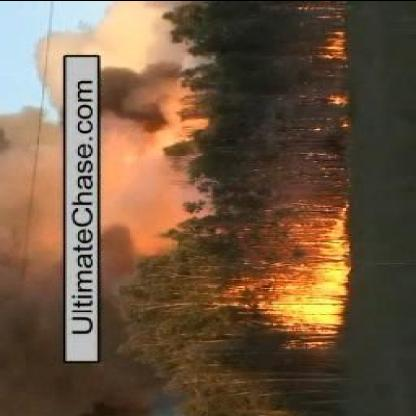-: (0, 96, 60, 351), (102, 9, 162, 254)
foggia-v2-map80-epoch100 - v1 4323: (282, 221, 348, 328), (326, 30, 350, 60)
